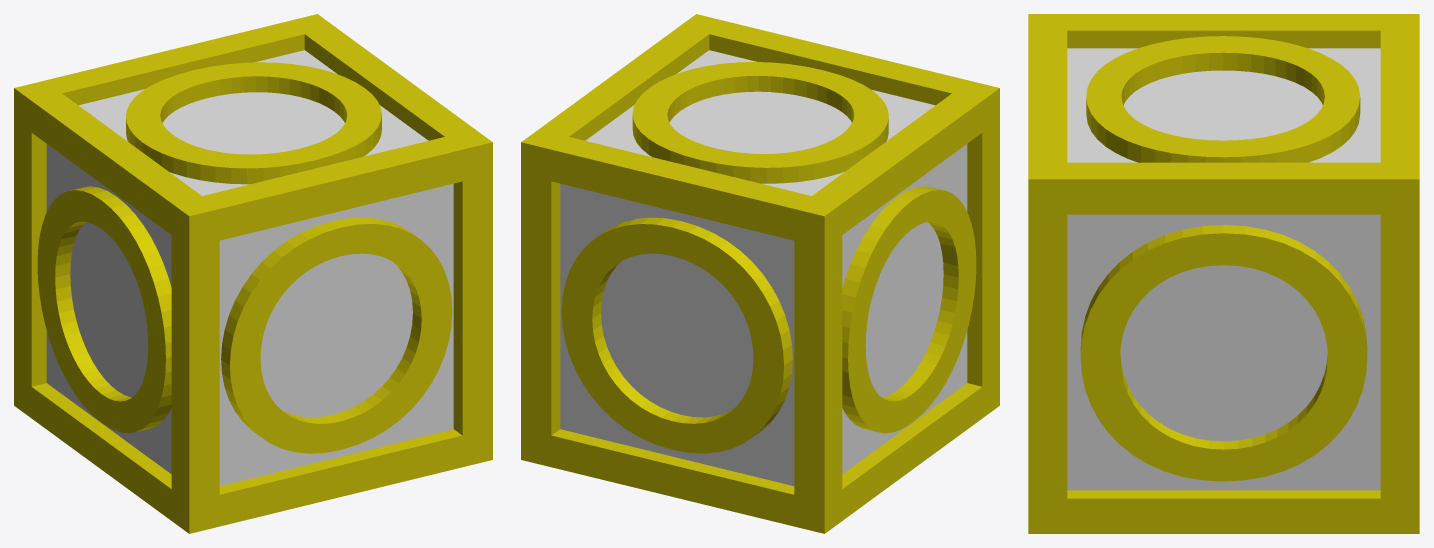
3 views of the same model, side by side, from view 1: azimuth 30°, elevation 25°; view 2: azimuth 150°, elevation 25°; view 3: azimuth 270°, elevation 25° (orthographic). The views are drawn at different scales.
Parts seen in each view (by area): view 1: Cube, Text.001, Text.002, Text; view 2: Cube, Text.004, Text.002, Text; view 3: Cube, Text.003, Text.
Boxes of the visible parts, x1=… form: Cube: x1=14, y1=14, x2=492, y2=533; Text.001: x1=221, y1=217, x2=452, y2=453; Text.002: x1=37, y1=186, x2=171, y2=433; Text: x1=126, y1=62, x2=381, y2=184; Cube: x1=521, y1=14, x2=999, y2=533; Text.004: x1=561, y1=217, x2=792, y2=453; Text.002: x1=842, y1=186, x2=976, y2=433; Text: x1=632, y1=62, x2=888, y2=183; Cube: x1=1028, y1=14, x2=1419, y2=533; Text.003: x1=1080, y1=225, x2=1367, y2=481; Text: x1=1086, y1=36, x2=1360, y2=162.
Bounding box in the file's own units: 200 × 200 × 200.
